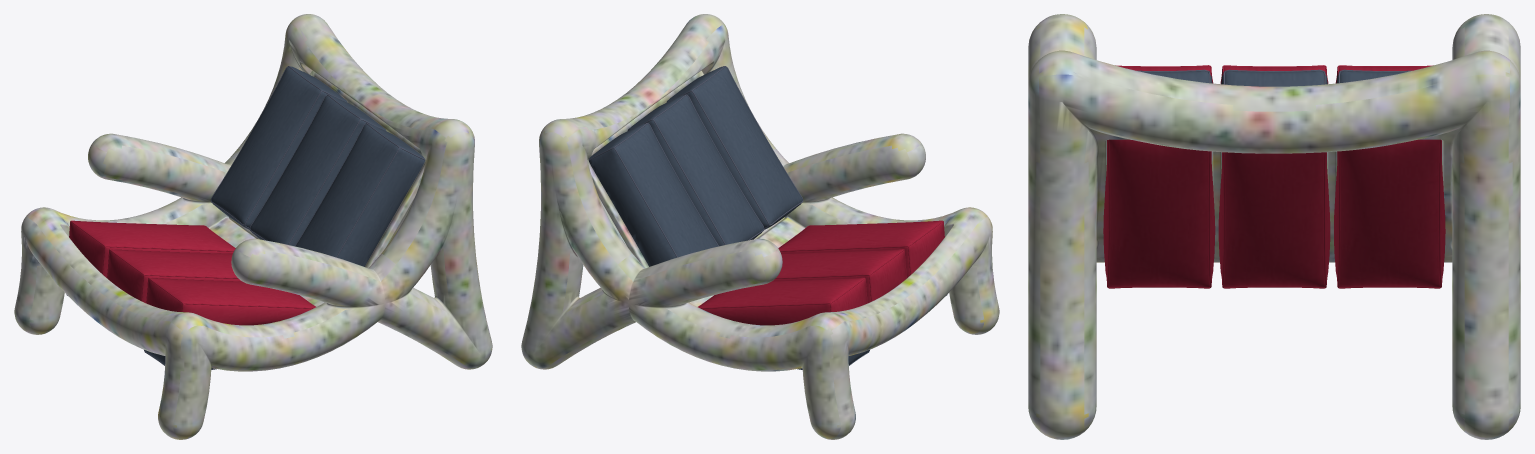
The model's file is chair.glb.
3 views of the same model, side by side, from view 1: azimuth 30°, elevation 25°; view 2: azimuth 150°, elevation 25°; view 3: azimuth 270°, elevation 25° (orthographic). The views are drawn at different scales.
Visible parts, largest first — view 1: new chair 5.001, Cube.008, cushion_angle_1.004, frame.002, cushion_1.001; view 2: new chair 5.001, Cube.008, cushion_angle_1.004, frame.002, cushion_1.001; view 3: new chair 5.001, cushion_angle_1.004, cushion_angle_1.011, Cube.008, cushion_1.001.
Boxes of the visible parts, x1,y1,x2,y2 form: new chair 5.001: (14,14,492,439); Cube.008: (66,66,424,369); cushion_angle_1.004: (69,220,315,325); frame.002: (229,70,425,267); cushion_1.001: (144,66,425,369); new chair 5.001: (521,14,999,439); Cube.008: (589,66,869,369); cushion_angle_1.004: (698,220,944,325); frame.002: (588,70,784,267); cushion_1.001: (589,66,947,295); new chair 5.001: (1028,14,1520,439); cushion_angle_1.004: (1103,65,1445,288); cushion_angle_1.011: (1218,152,1330,287); Cube.008: (1142,71,1406,86); cushion_1.001: (1137,69,1411,84).
Size of the model in its own units: 1.04 by 0.7586 by 0.9144.
Materials: 5 (5 with a texture image).
